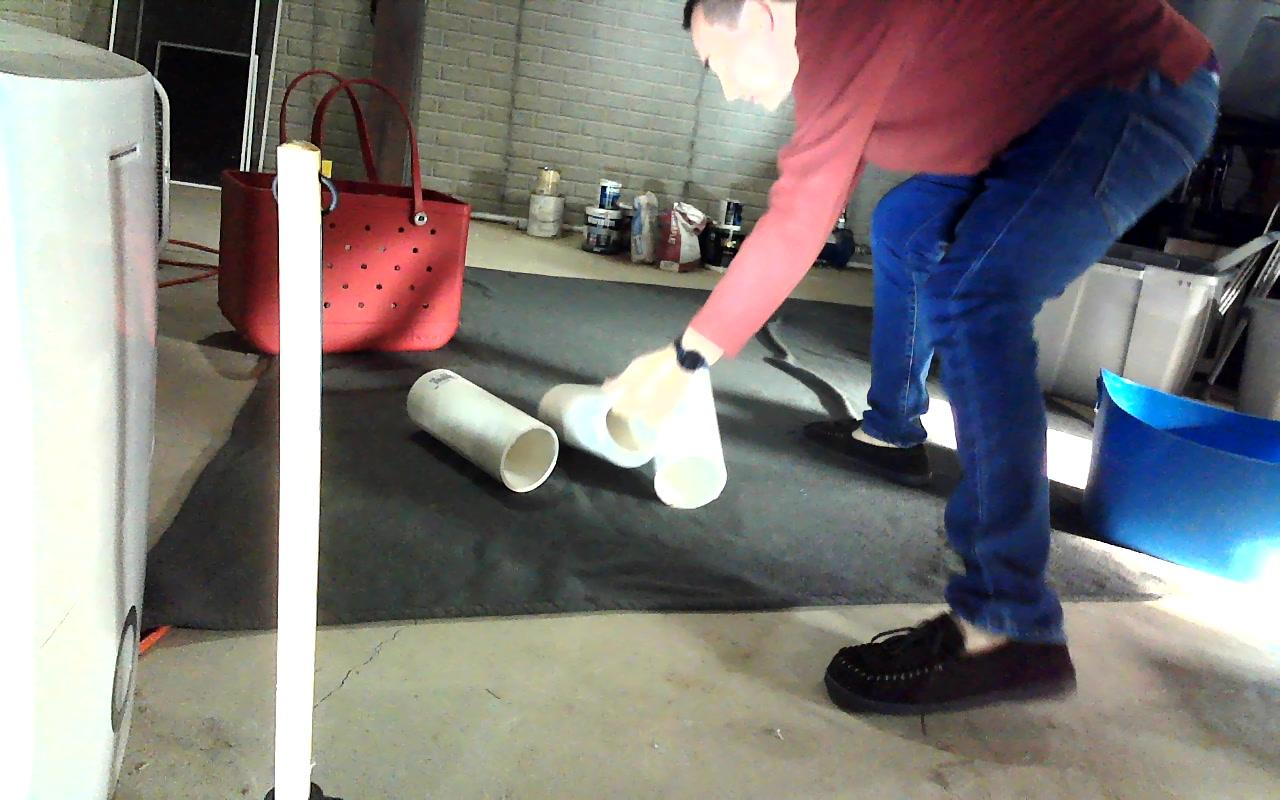coral: (406, 368, 558, 491), (650, 356, 727, 509), (544, 379, 650, 466)
